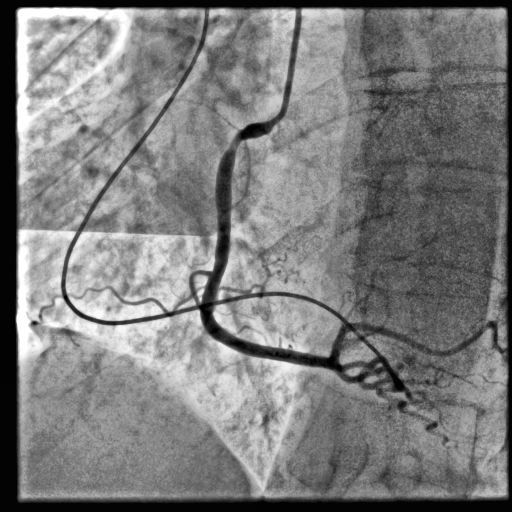pborca: (328, 321, 510, 361)
pda: (326, 362, 450, 449)
rca: (200, 117, 338, 369)
